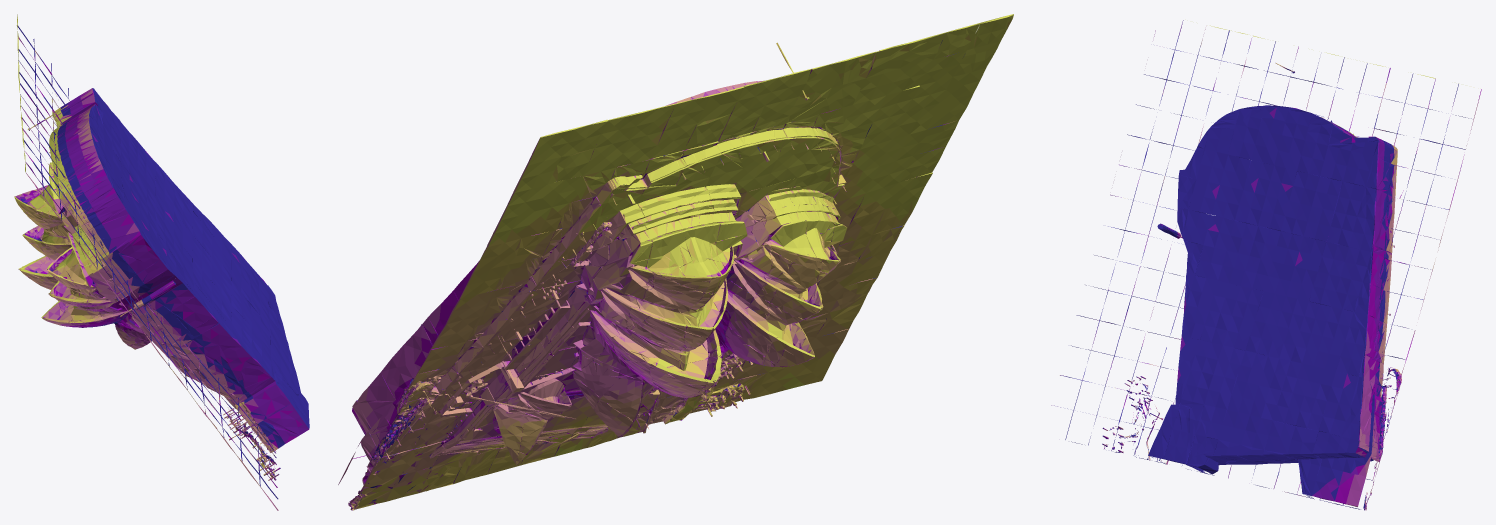
The model's file is solar_insolation.glb.
The picture shows the model from 3 angles, left to right: view 1: azimuth 30°, elevation 25°; view 2: azimuth 150°, elevation 25°; view 3: azimuth 270°, elevation 25°; orthographic projection. The views are drawn at different scales.
Parts seen in each view (by area): view 1: geometry_0; view 2: geometry_0; view 3: geometry_0.
Boxes of the visible parts, x1,y1,x2,y2 form: geometry_0: (14,14,309,510); geometry_0: (338,14,1013,510); geometry_0: (1051,20,1481,510).
Bounding box in the file's own units: 244 × 224 × 267.
